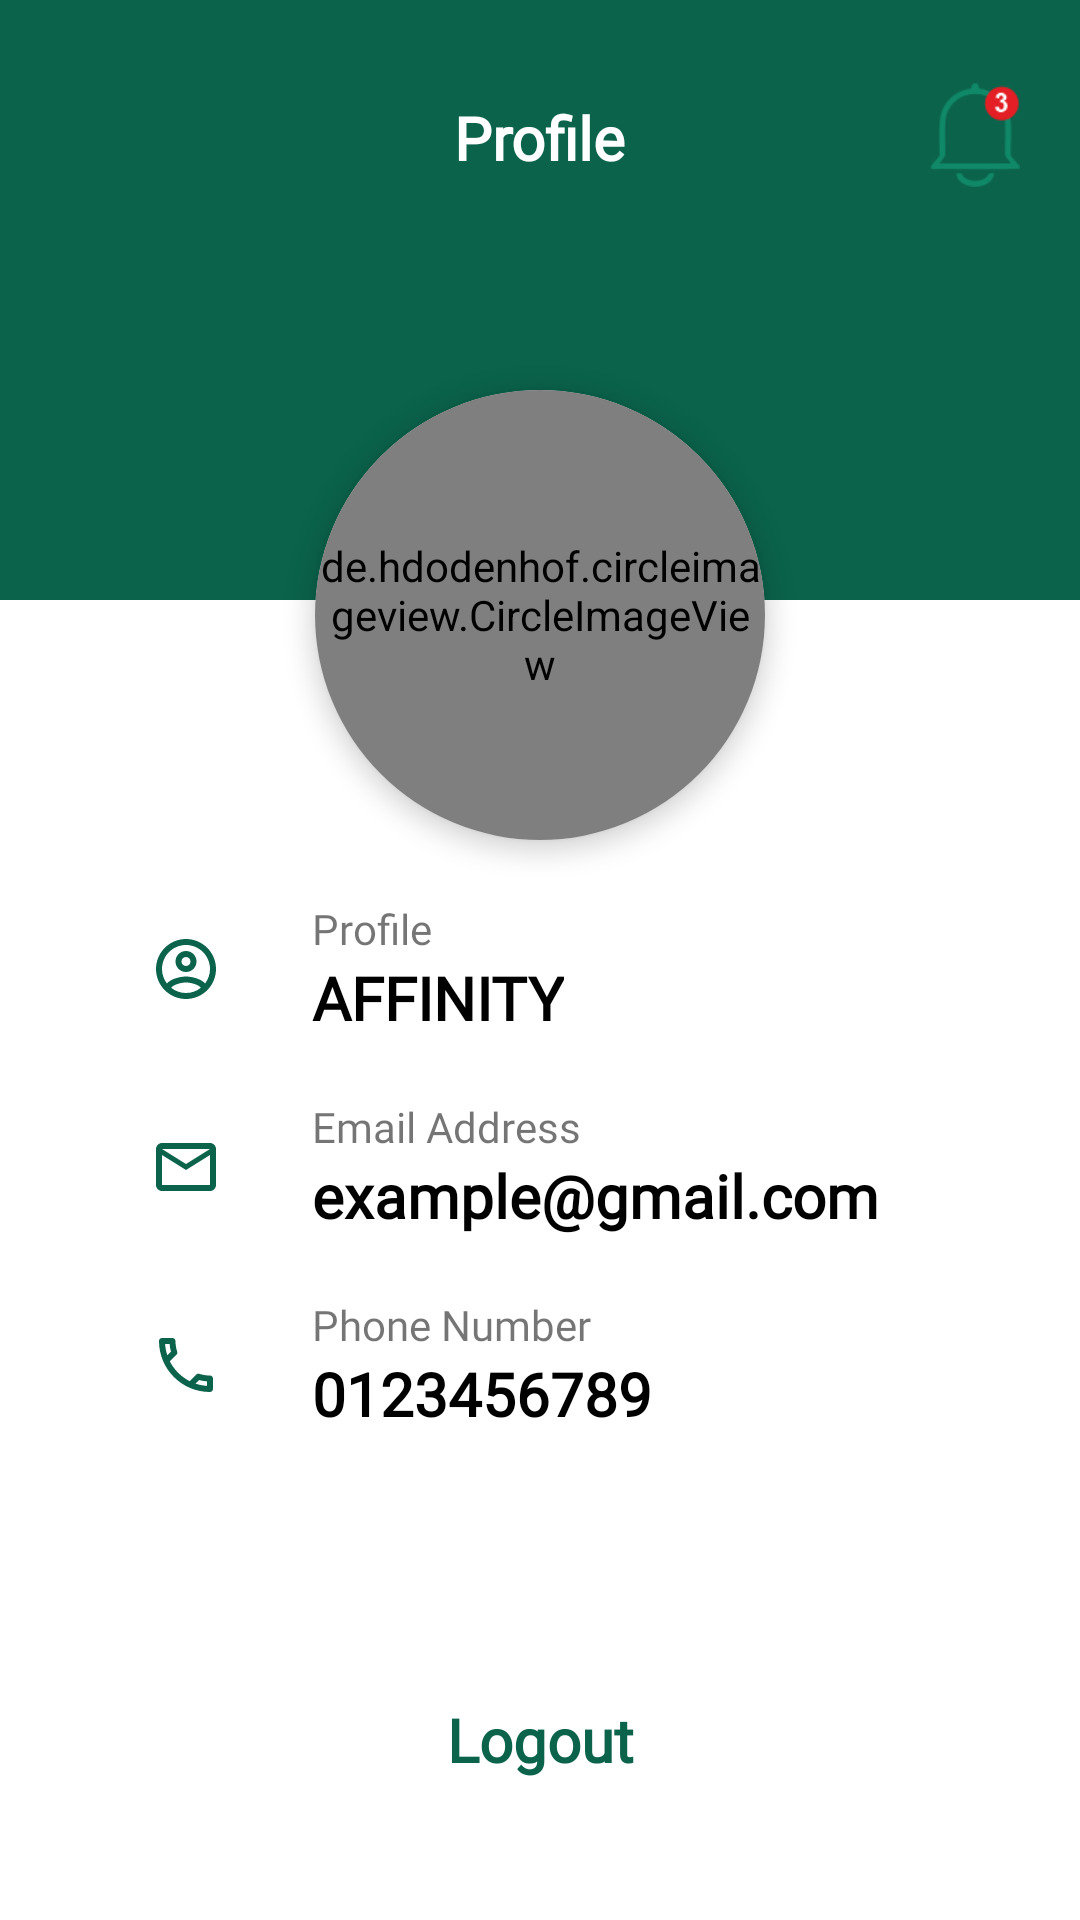

Where icons sit on this 1080 × 1920 app screen, as {"x1": x1, "y1": y1, "x2": x2, "y2": y2}:
account circle: {"x1": 156, "y1": 939, "x2": 216, "y2": 999}
